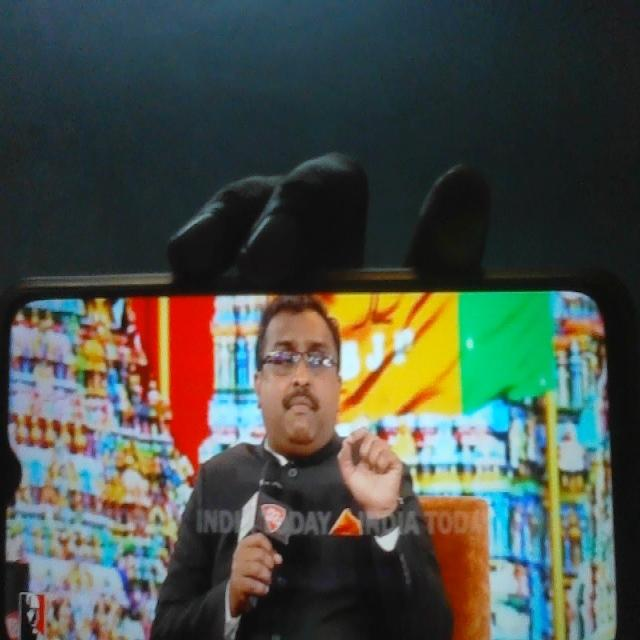fake: (249, 257, 354, 456)
